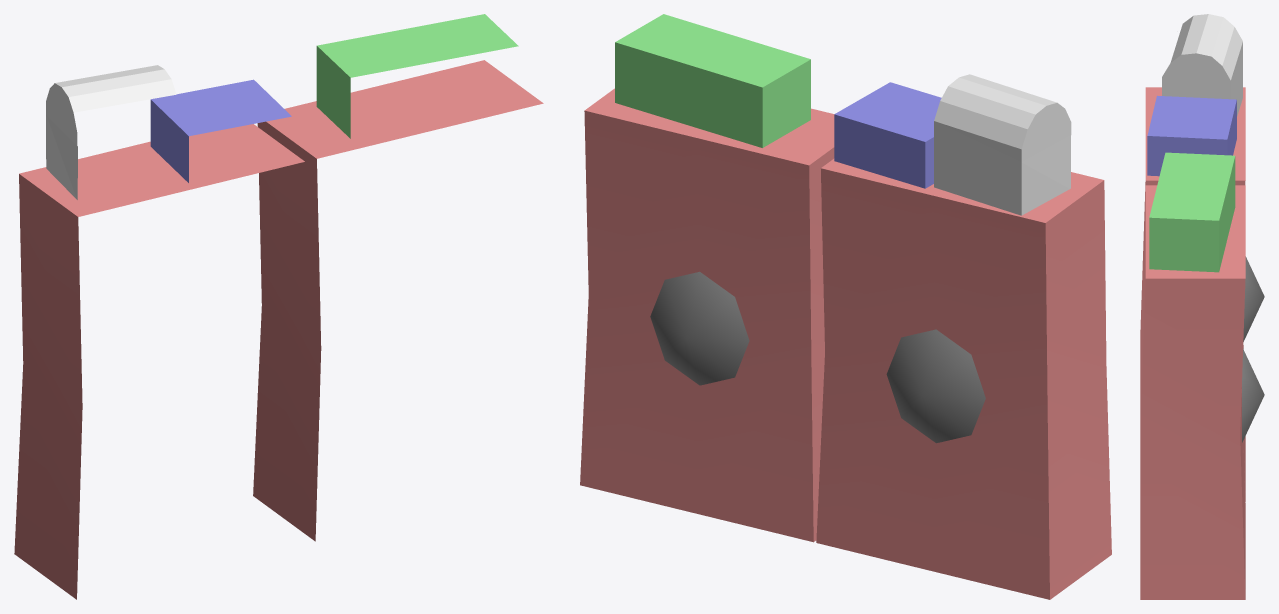
The model's file is interior_Aa_s__right_box.gltf.
3 views of the same model, side by side, from view 1: azimuth 30°, elevation 25°; view 2: azimuth 150°, elevation 25°; view 3: azimuth 270°, elevation 25° (orthographic). The views are drawn at different scales.
Visible parts, largest first — view 1: right_box; view 2: right_box; view 3: right_box.
Part boxes in pixels (x1,y1,x2,y2): right_box: [14, 14, 543, 599]; right_box: [580, 14, 1111, 599]; right_box: [1140, 14, 1264, 599].
Size of the model in its own units: 1.38 by 1.32 by 0.3717.
